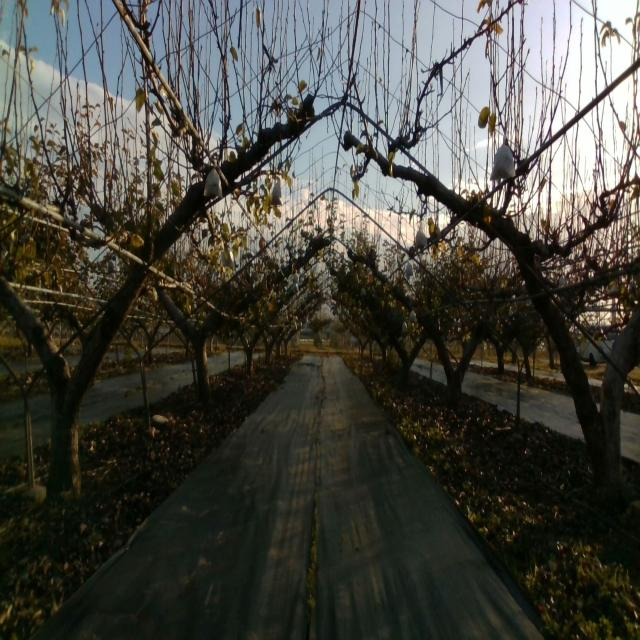pearbags: (489, 134, 517, 180), (202, 158, 223, 198), (270, 182, 283, 206), (221, 248, 235, 269), (414, 226, 427, 248)
